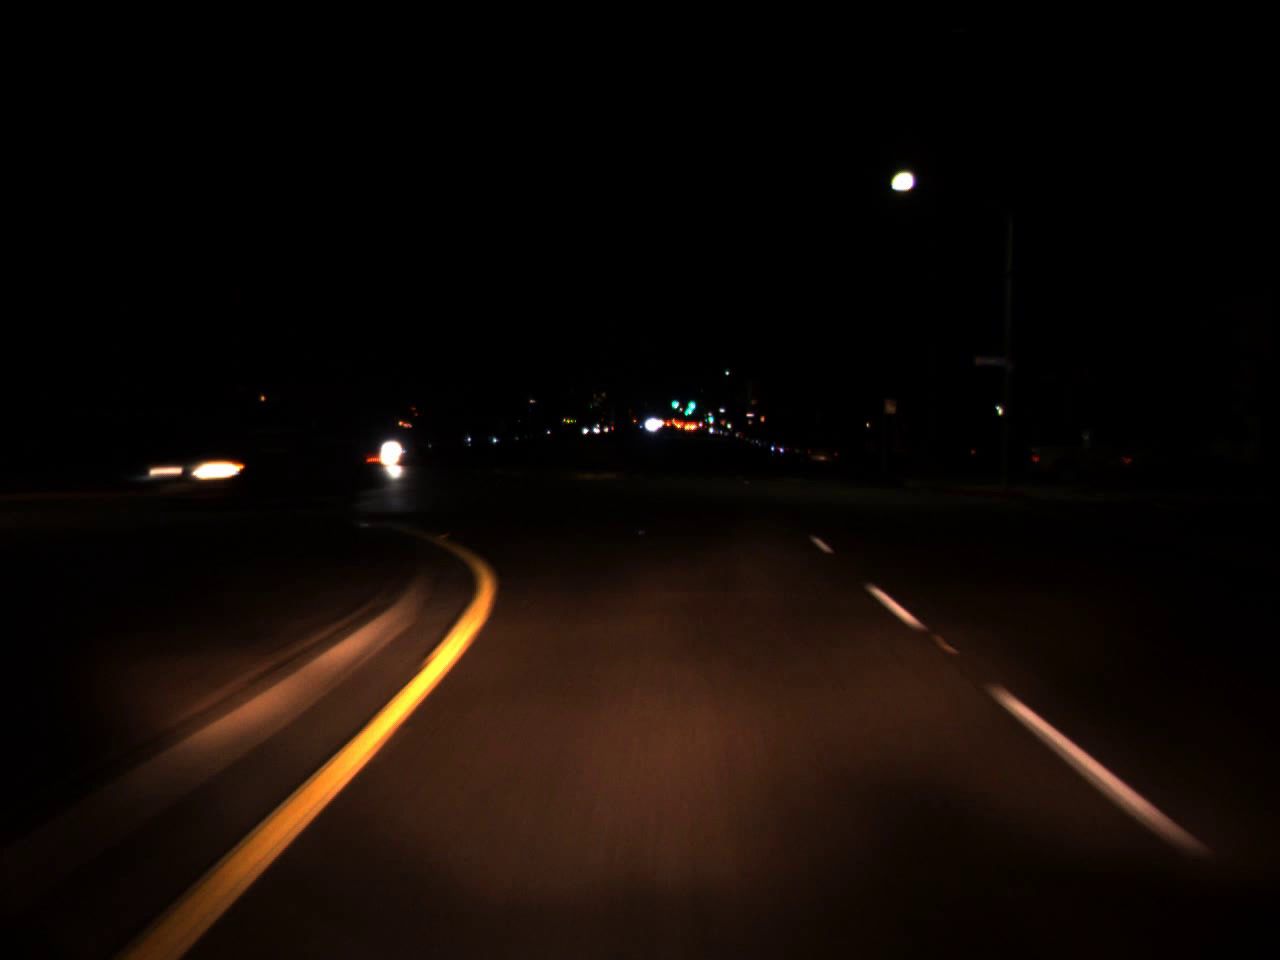go: (684, 387, 698, 414), (703, 403, 714, 427), (669, 394, 678, 409)
